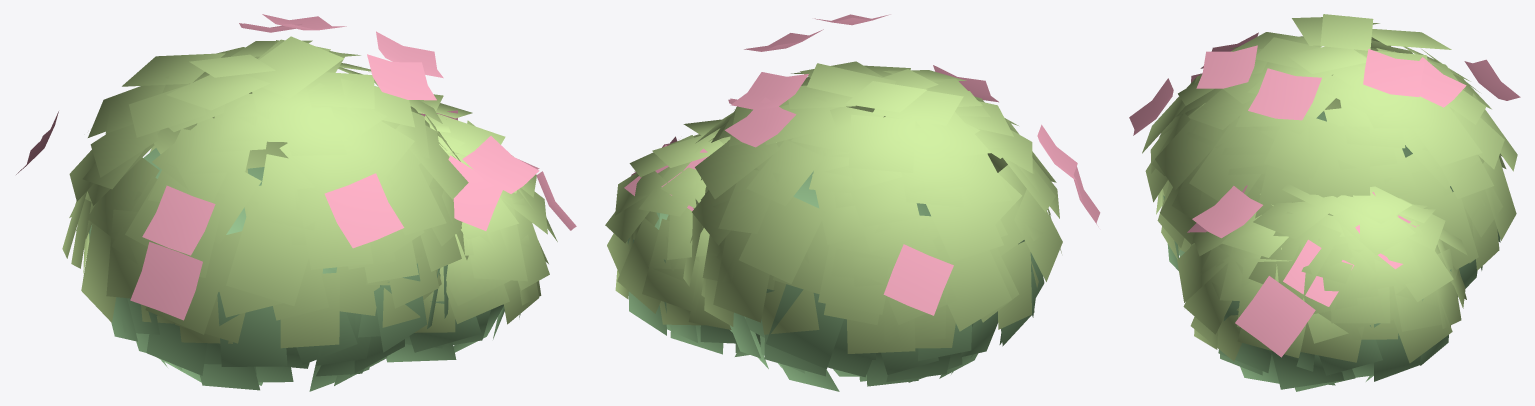
Rendered from plant_bush_a.glb.
3 renders of one model, left to right at view 1: azimuth 30°, elevation 25°; view 2: azimuth 150°, elevation 25°; view 3: azimuth 270°, elevation 25°, orthographic. The views are drawn at different scales.
Parts seen in each view (by area): view 1: plant_bush_0; view 2: plant_bush_0; view 3: plant_bush_0.
Boxes of the visible parts, left/top/right/bottom form: plant_bush_0: left=16, top=14, right=576, bottom=391; plant_bush_0: left=605, top=14, right=1100, bottom=391; plant_bush_0: left=1129, top=14, right=1520, bottom=391.
Bounding box in the file's own units: 2.06 × 1.34 × 1.64.
